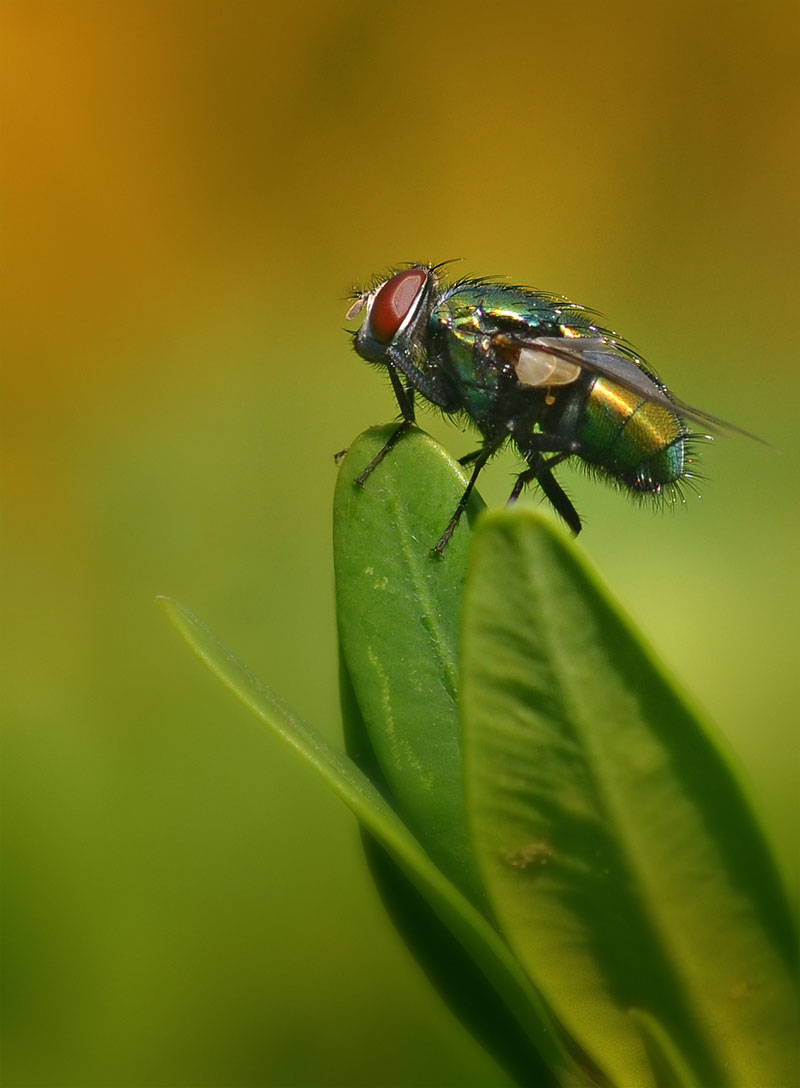green bottles flies: (324, 235, 770, 563)
